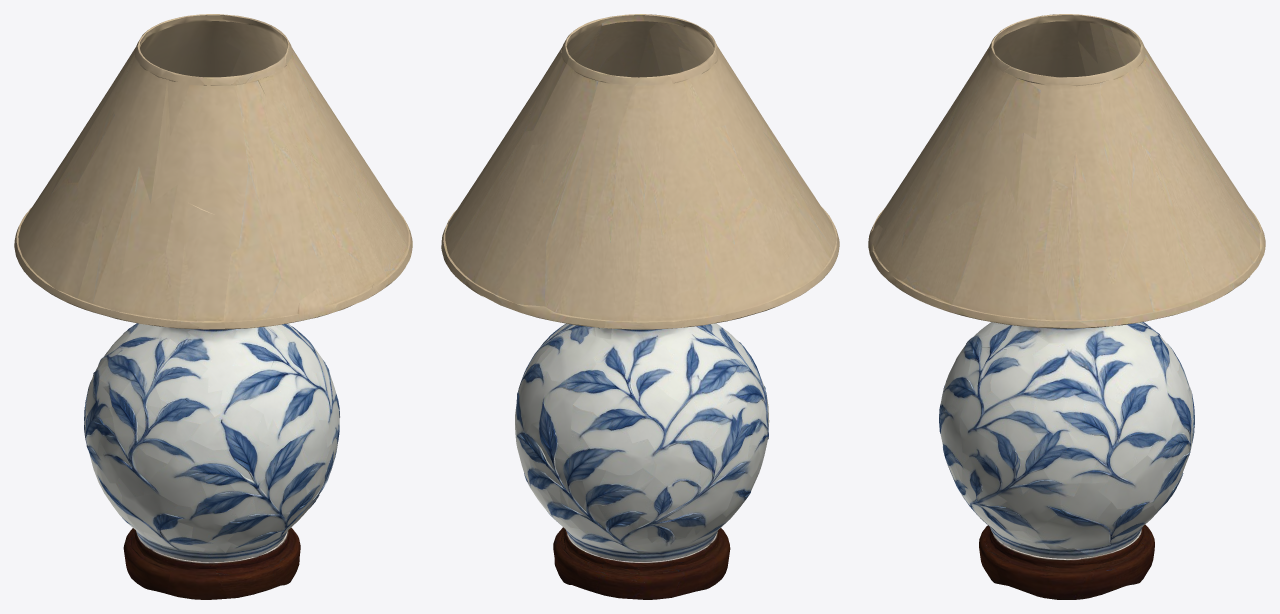
The model's file is w5tablelamp.glb.
3 views of the same model, side by side, from view 1: azimuth 30°, elevation 25°; view 2: azimuth 150°, elevation 25°; view 3: azimuth 270°, elevation 25° (orthographic).
Visible parts, largest first — view 1: output_unwrapped; view 2: output_unwrapped; view 3: output_unwrapped.
Part boxes in pixels (left/top/right/bottom): output_unwrapped: left=14, top=14, right=412, bottom=599; output_unwrapped: left=441, top=14, right=839, bottom=599; output_unwrapped: left=868, top=14, right=1265, bottom=599.
Size of the model in its own units: 0.381 by 0.55 by 0.3811.
1 material, 1 textured.
